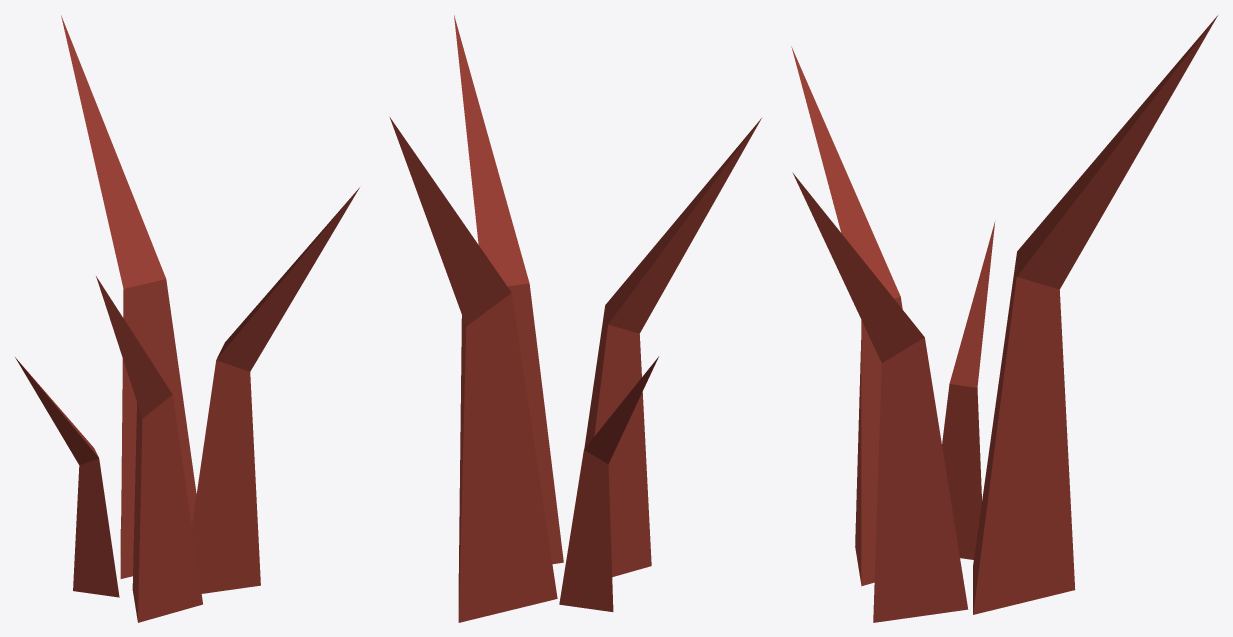
Rendered from Grass_1_Red.fbx.
3 views of the same model, side by side, from view 1: azimuth 30°, elevation 25°; view 2: azimuth 150°, elevation 25°; view 3: azimuth 270°, elevation 25° (orthographic). The views are drawn at different scales.
Visible parts, largest first — view 1: Grass_1_Red; view 2: Grass_1_Red; view 3: Grass_1_Red.
Boxes of the visible parts, x1,y1,x2,y2 form: Grass_1_Red: (15, 15, 359, 622); Grass_1_Red: (389, 15, 761, 622); Grass_1_Red: (791, 15, 1217, 622).
Bounding box in the file's own units: 16.21 × 28.02 × 18.86.
